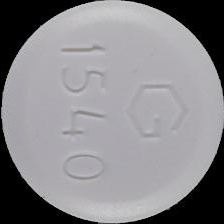49999-248: (0, 0, 224, 224)
